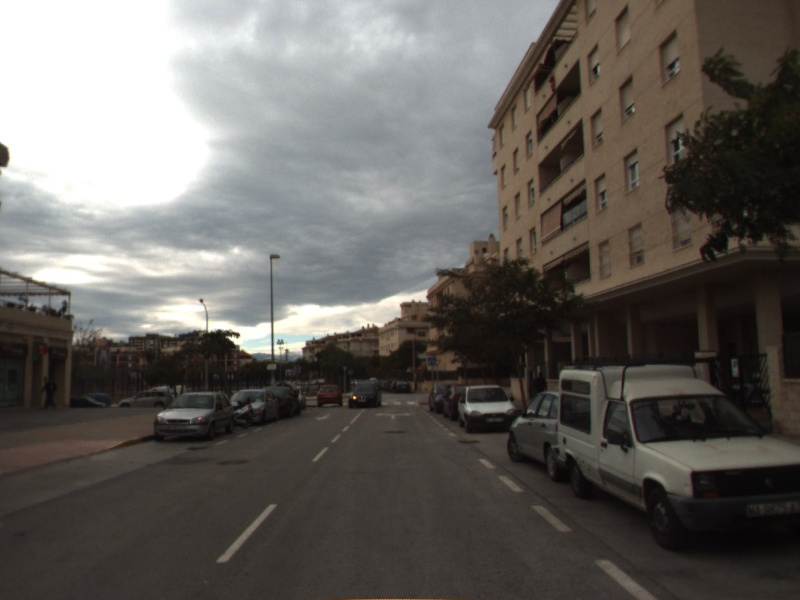LEFT_RIGHT: (373, 410, 414, 421)
